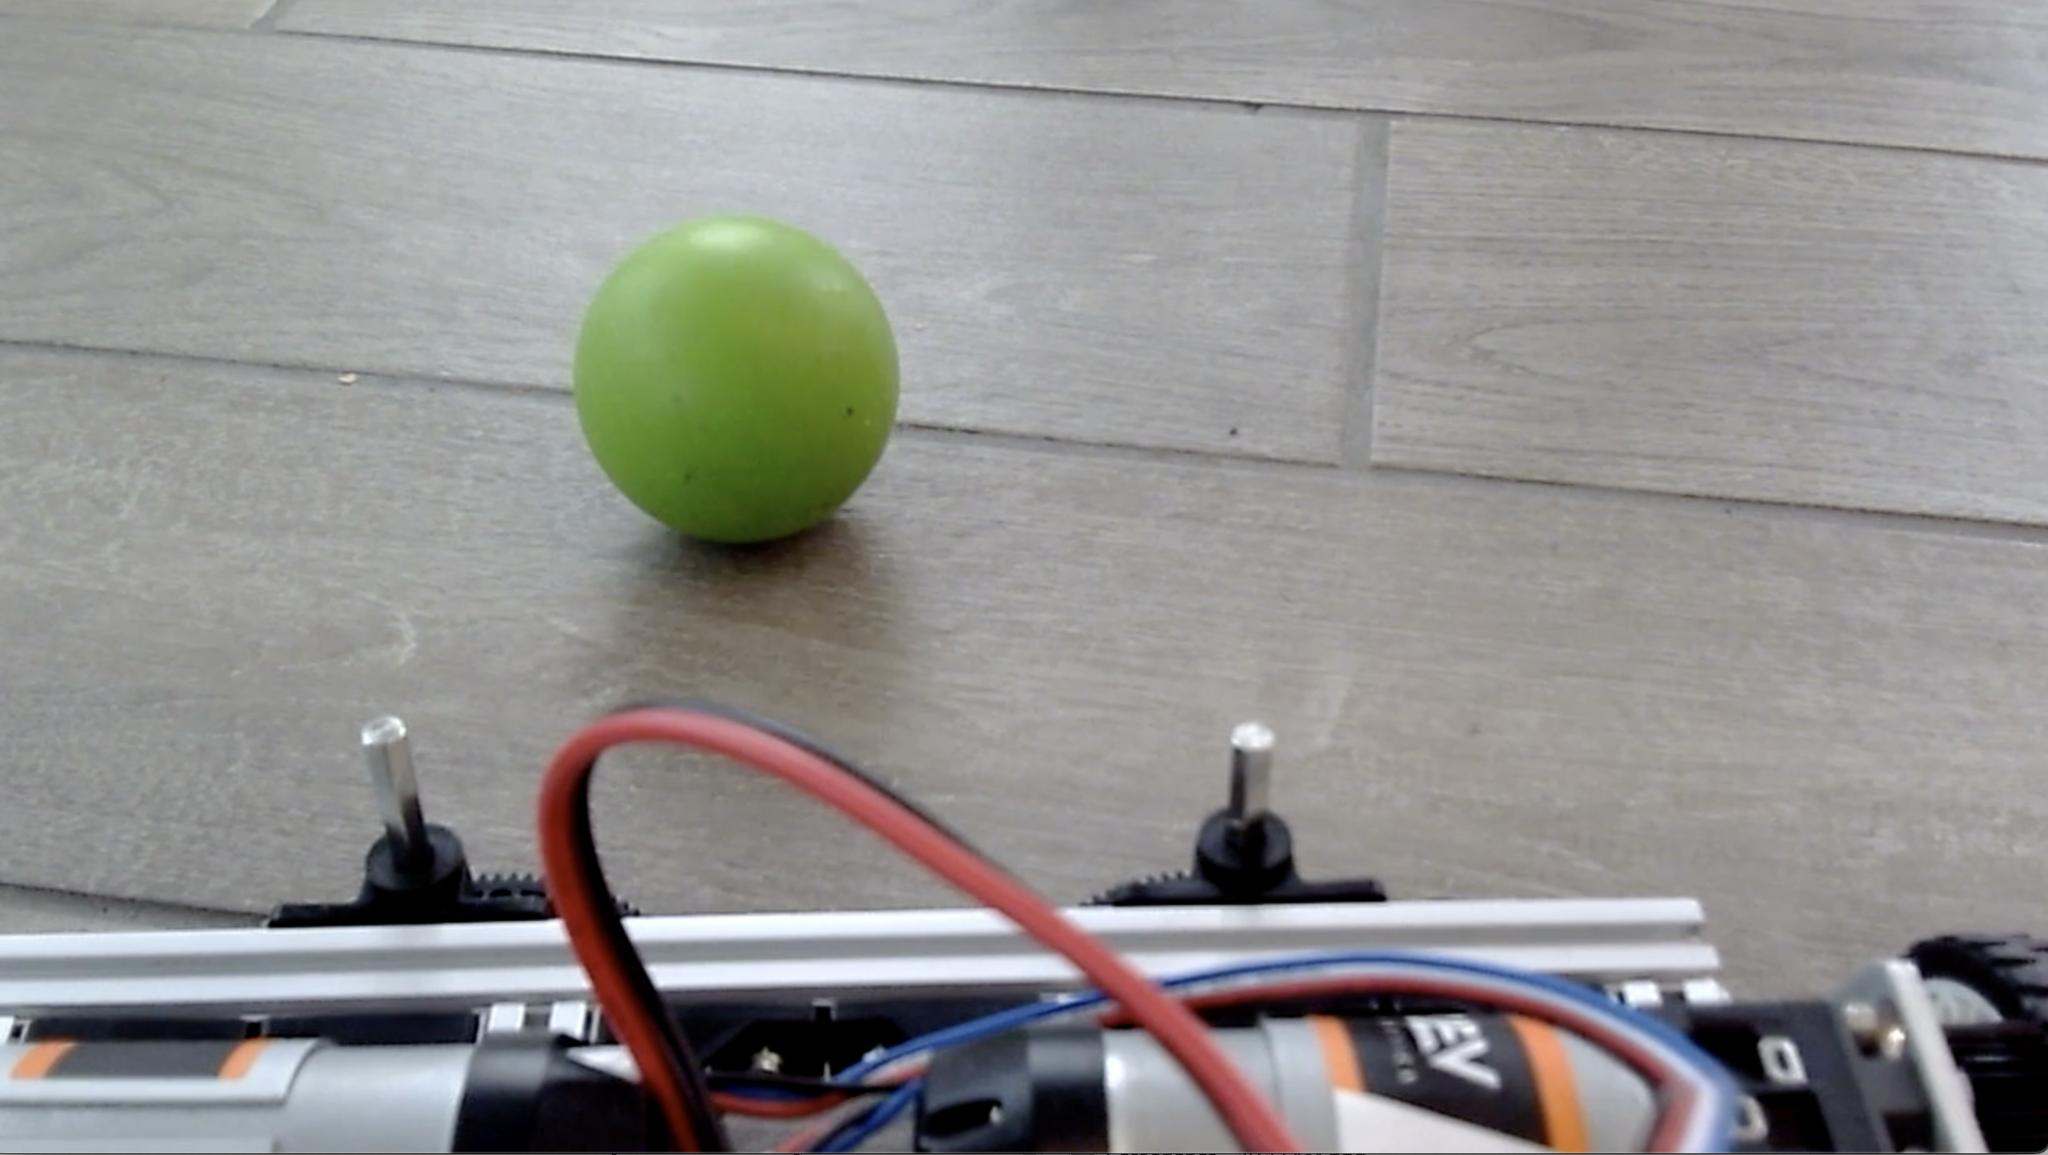greenball: (570, 210, 903, 547)
